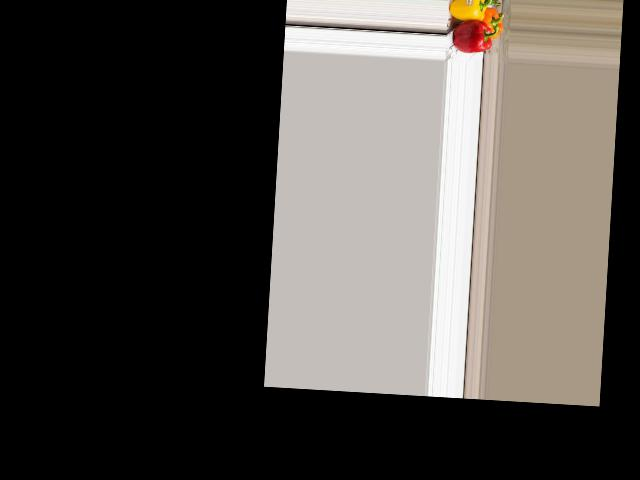bell_pepper: (480, 6, 504, 40)
